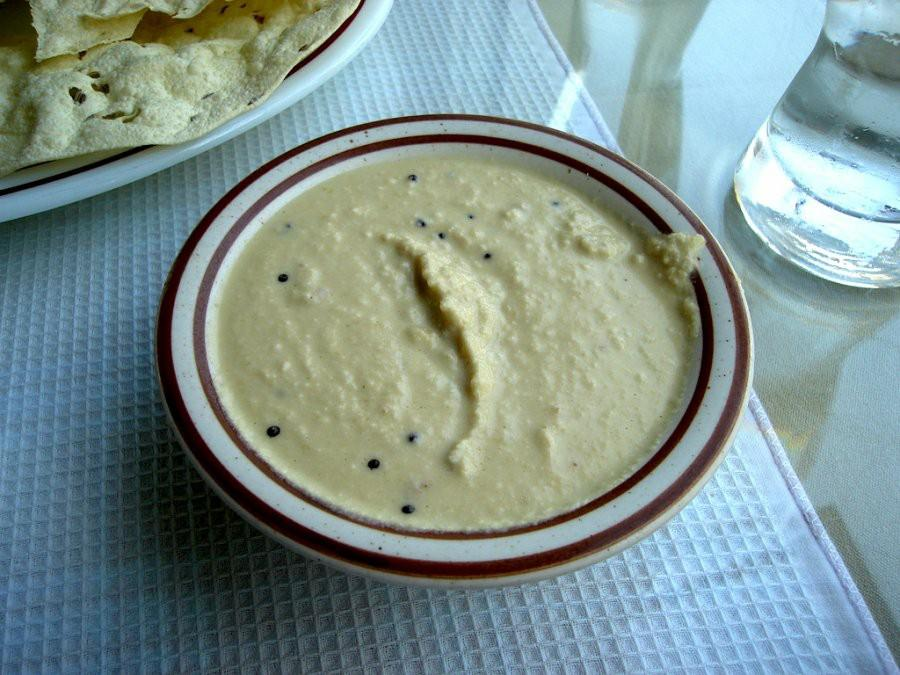CoconutChutney: (212, 153, 687, 530)
